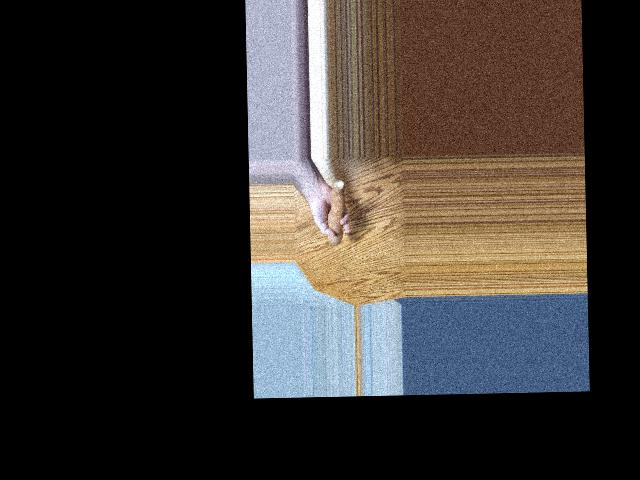sweet_potato: (330, 177, 348, 249)
